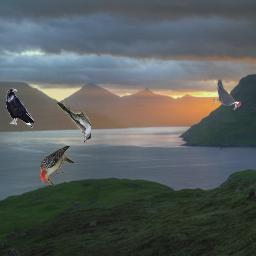Crow: (6, 88, 34, 128)
Cuckoo: (57, 102, 91, 142)
Woodpecker: (39, 146, 74, 186), (212, 79, 241, 110)
